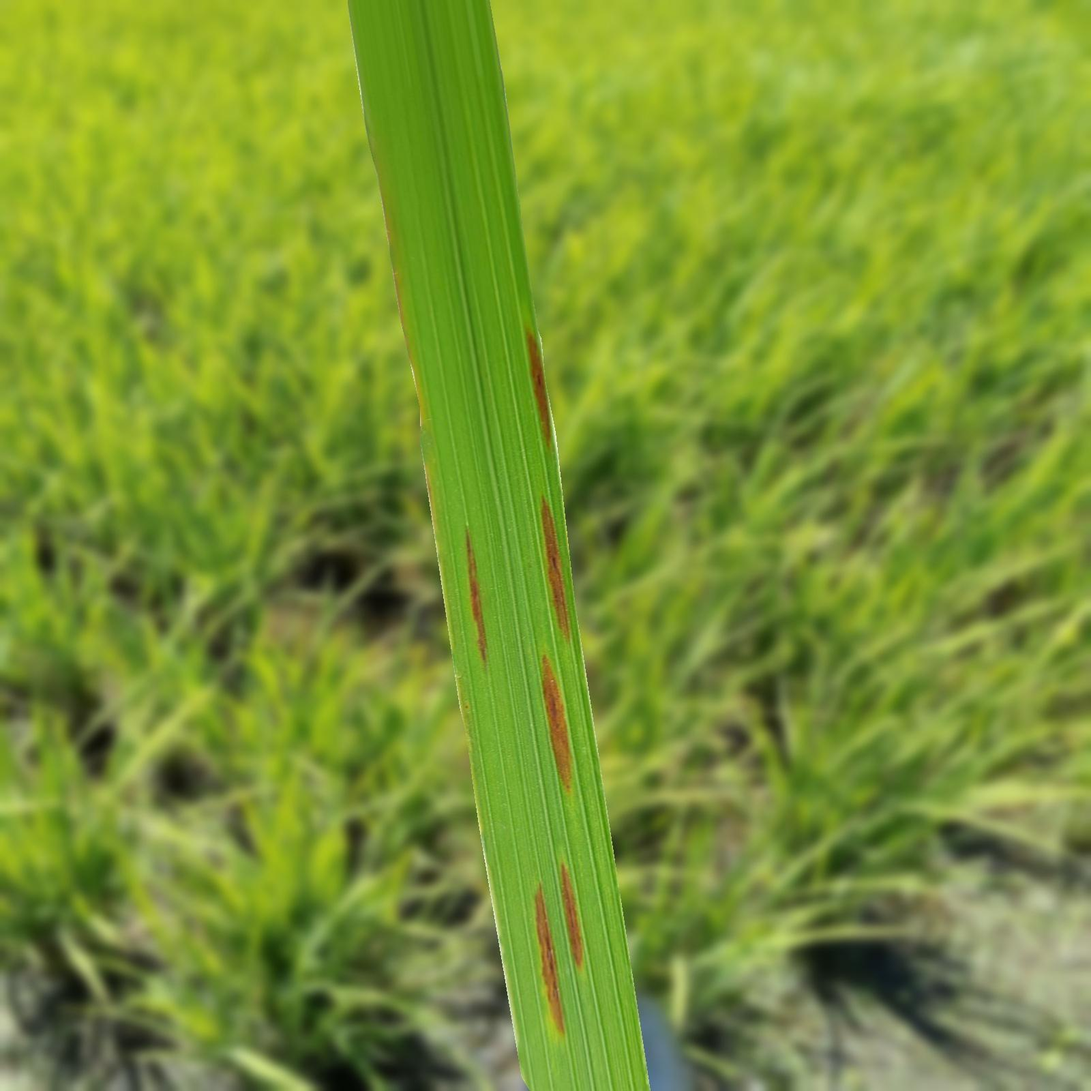LEAF: (348, 0, 650, 1090)
NBS: (535, 885, 563, 1034), (541, 498, 569, 638), (542, 656, 571, 790), (527, 331, 551, 445), (466, 530, 486, 662), (562, 864, 583, 968)
